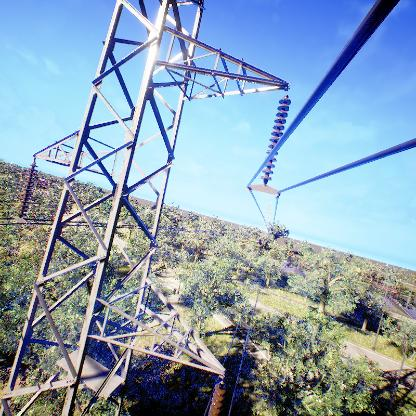insulator: (260, 96, 294, 185), (18, 162, 36, 220)
